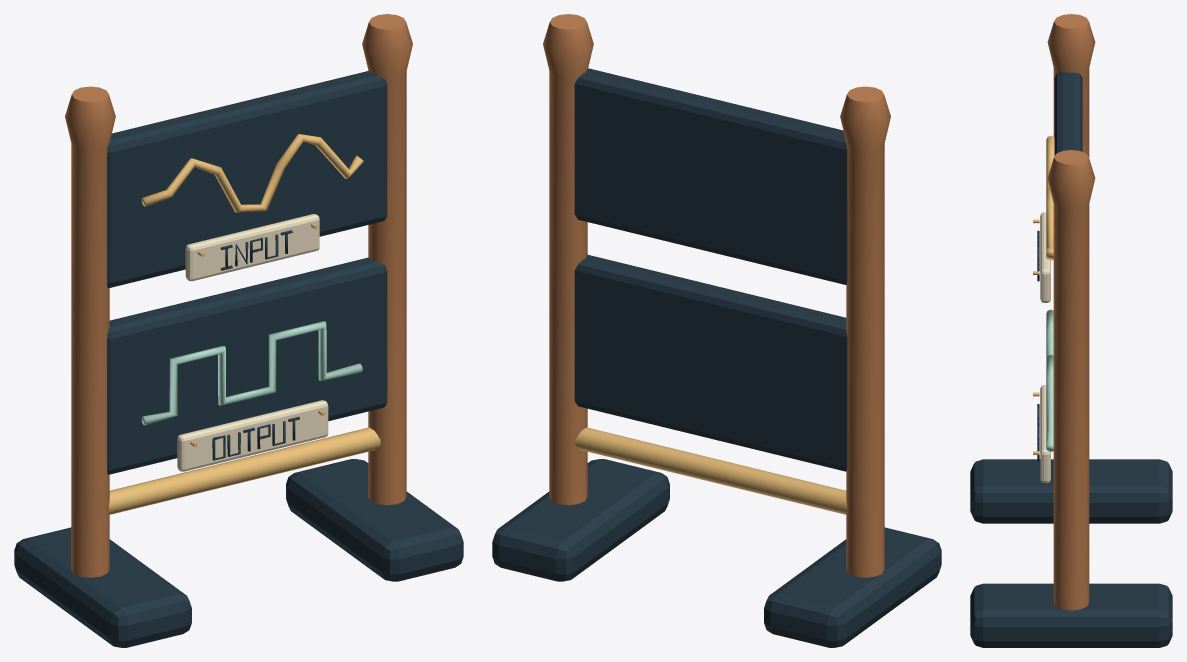
3 renders of one model, left to right at view 1: azimuth 30°, elevation 25°; view 2: azimuth 150°, elevation 25°; view 3: azimuth 270°, elevation 25°, orthographic. The views are drawn at different scales.
Parts seen in each view (by area): view 1: PR039 workshop surfaces; view 2: PR039 workshop surfaces; view 3: PR039 workshop surfaces.
Boxes of the visible parts, x1,y1,x2,y2 form: PR039 workshop surfaces: (14,14,463,647); PR039 workshop surfaces: (492,14,941,647); PR039 workshop surfaces: (970,14,1172,647).
Bounding box in the file's own units: 0.9302 × 1.3 × 0.4931.
